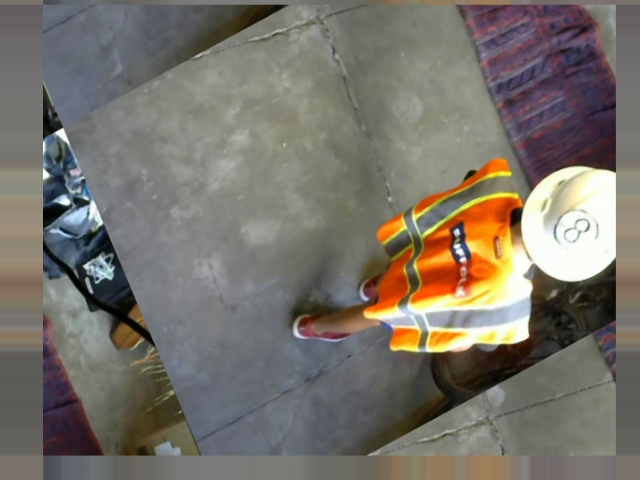eight: (548, 198, 605, 258)
